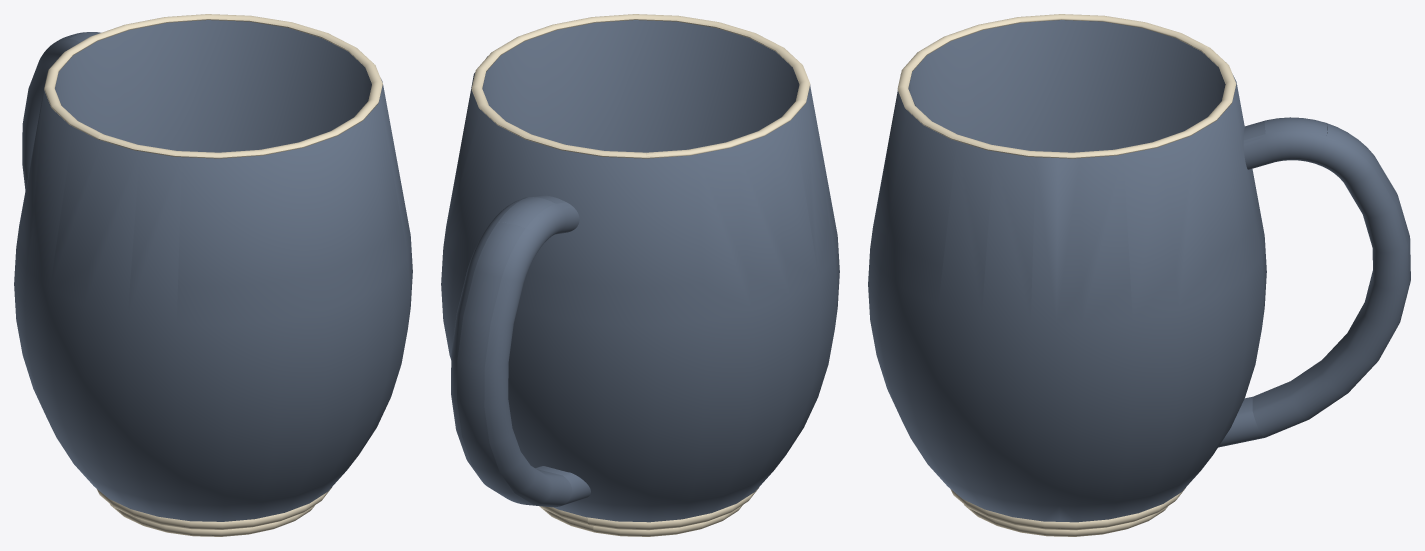
The picture shows the model from 3 angles, left to right: view 1: azimuth 30°, elevation 25°; view 2: azimuth 150°, elevation 25°; view 3: azimuth 270°, elevation 25°; orthographic projection.
Visible parts, largest first — view 1: mesh3_mesh3-geometry, mesh5_mesh5-geometry, mesh4_mesh4-geometry, mesh1_mesh1-geometry_1, mesh2_mesh2-geometry; view 2: mesh3_mesh3-geometry, mesh4_mesh4-geometry, mesh5_mesh5-geometry, mesh1_mesh1-geometry_1, mesh2_mesh2-geometry; view 3: mesh3_mesh3-geometry, mesh4_mesh4-geometry, mesh5_mesh5-geometry, mesh1_mesh1-geometry_1, mesh2_mesh2-geometry.
Boxes of the visible parts, x1,y1,x2,y2 form: mesh3_mesh3-geometry: [14, 20, 412, 521]; mesh5_mesh5-geometry: [44, 14, 382, 158]; mesh4_mesh4-geometry: [22, 32, 100, 190]; mesh1_mesh1-geometry_1: [96, 487, 331, 529]; mesh2_mesh2-geometry: [110, 504, 314, 536]; mesh3_mesh3-geometry: [441, 20, 839, 522]; mesh4_mesh4-geometry: [451, 195, 590, 507]; mesh5_mesh5-geometry: [471, 14, 810, 158]; mesh1_mesh1-geometry_1: [540, 487, 759, 530]; mesh2_mesh2-geometry: [539, 505, 742, 536]; mesh3_mesh3-geometry: [868, 20, 1266, 522]; mesh4_mesh4-geometry: [1218, 117, 1410, 447]; mesh5_mesh5-geometry: [897, 14, 1236, 158]; mesh1_mesh1-geometry_1: [950, 488, 1185, 530]; mesh2_mesh2-geometry: [964, 504, 1167, 536].
Size of the model in its own units: 0.492 by 0.5562 by 0.6697.
